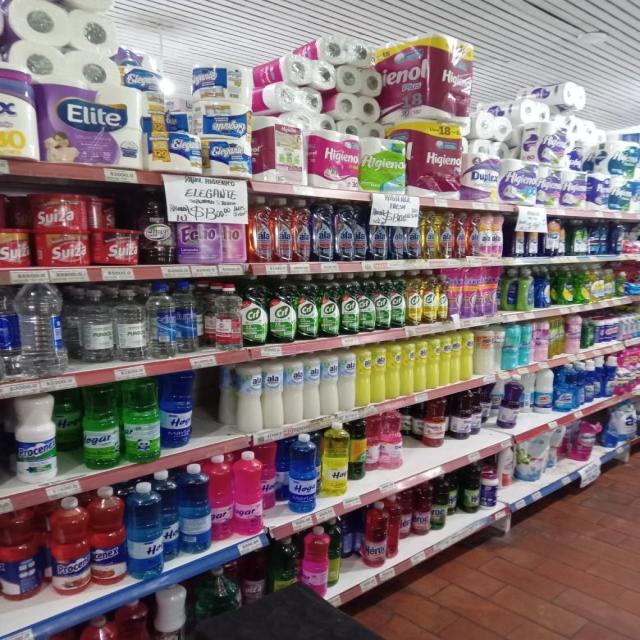ala_conc_amarillo: (424, 210, 438, 259), (440, 211, 454, 259)
ala_conc_azul: (313, 201, 334, 262), (335, 202, 354, 261), (369, 210, 388, 260), (353, 204, 368, 261), (406, 211, 423, 259), (390, 212, 405, 260)
ala_conc_rojo: (248, 195, 273, 263), (273, 197, 293, 263), (293, 198, 312, 262), (455, 212, 467, 258), (468, 212, 478, 257)
ala_crem_amarillo: (356, 344, 372, 408), (372, 343, 386, 404), (461, 329, 474, 381)
ala_crem_blanco: (236, 361, 262, 433), (263, 360, 283, 428), (284, 358, 303, 425), (338, 348, 356, 412), (321, 352, 338, 415), (304, 355, 320, 420)
cif_conc_bot_amarilla: (406, 270, 422, 326), (422, 269, 436, 324), (437, 269, 448, 322)
cif_conc_botella_verde: (269, 274, 296, 344), (242, 276, 268, 346), (297, 274, 318, 340), (320, 273, 340, 337), (341, 272, 358, 335), (359, 272, 375, 332), (390, 270, 406, 329), (376, 271, 390, 330)
